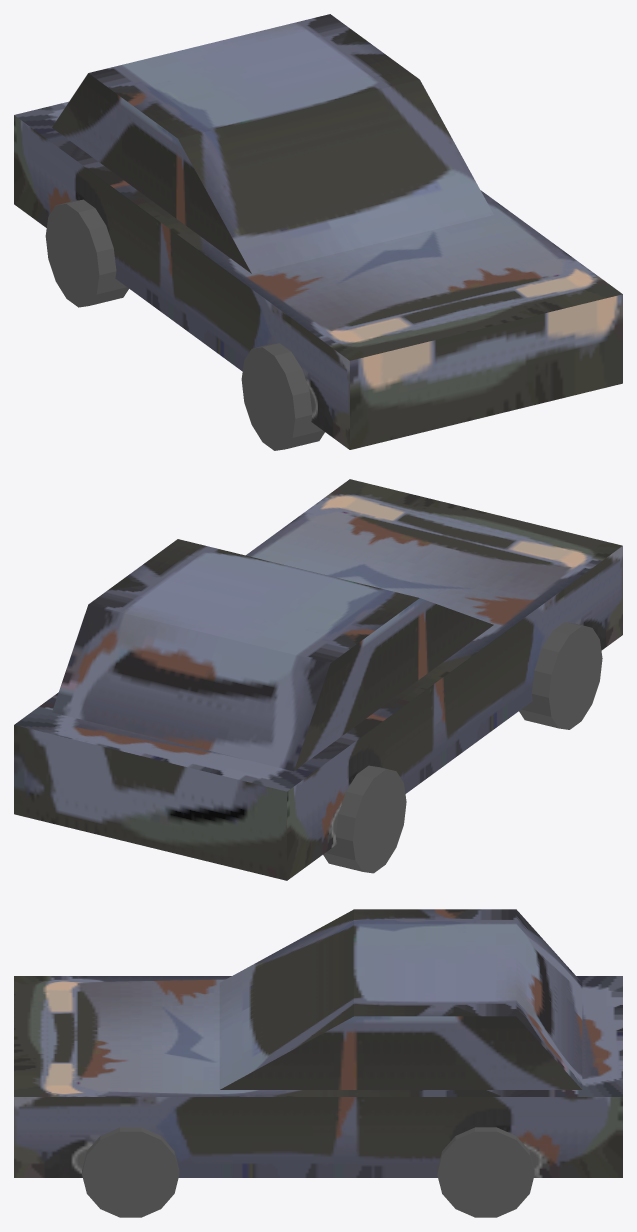
File: Building_AncientRustedCar__B.glb
3 renders of one model, top to bottom at view 1: azimuth 30°, elevation 25°; view 2: azimuth 150°, elevation 25°; view 3: azimuth 270°, elevation 25°, orthographic. The views are drawn at different scales.
Visible parts, largest first — view 1: AncientRustedCar; view 2: AncientRustedCar; view 3: AncientRustedCar.
Boxes of the visible parts, box(x1,y1,x2,y2) form: AncientRustedCar: box(14, 14, 622, 450); AncientRustedCar: box(14, 479, 622, 880); AncientRustedCar: box(14, 909, 622, 1217).
Size of the model in its own units: 1.93 by 1.29 by 3.75.
1 material, 1 textured.
